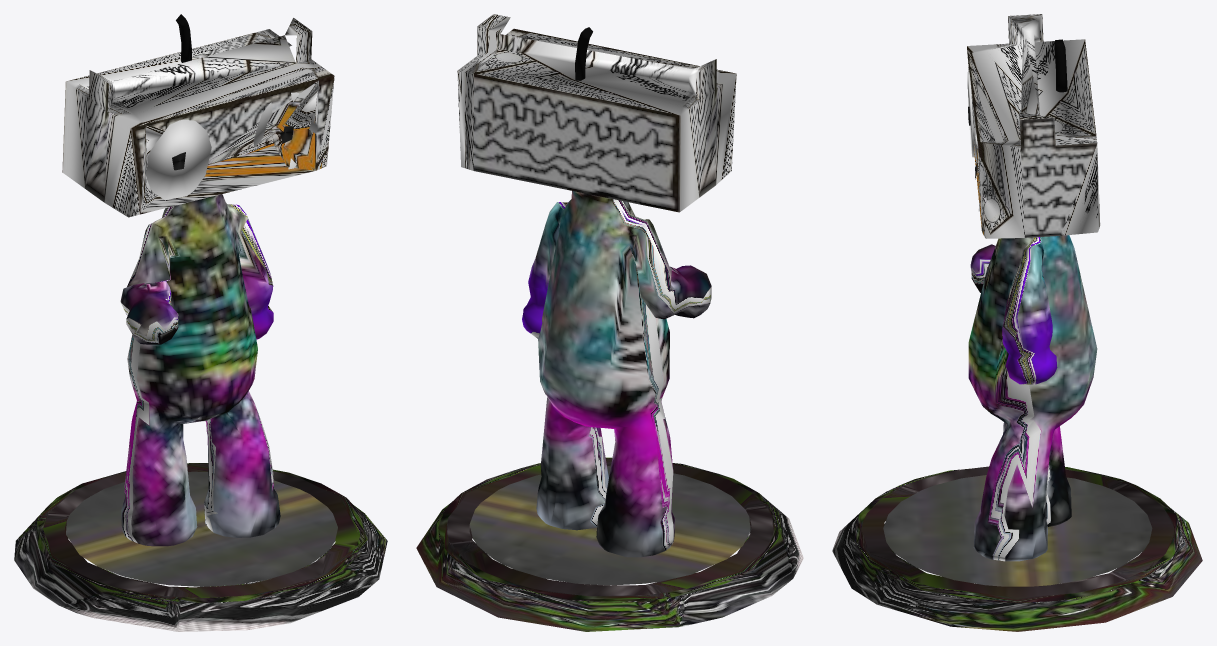
3 renders of one model, left to right at view 1: azimuth 30°, elevation 25°; view 2: azimuth 150°, elevation 25°; view 3: azimuth 270°, elevation 25°, orthographic. The views are drawn at different scales.
Bounding box in the file's own units: 1.45 × 2.22 × 1.44.
Materials: 7 (4 with a texture image).
